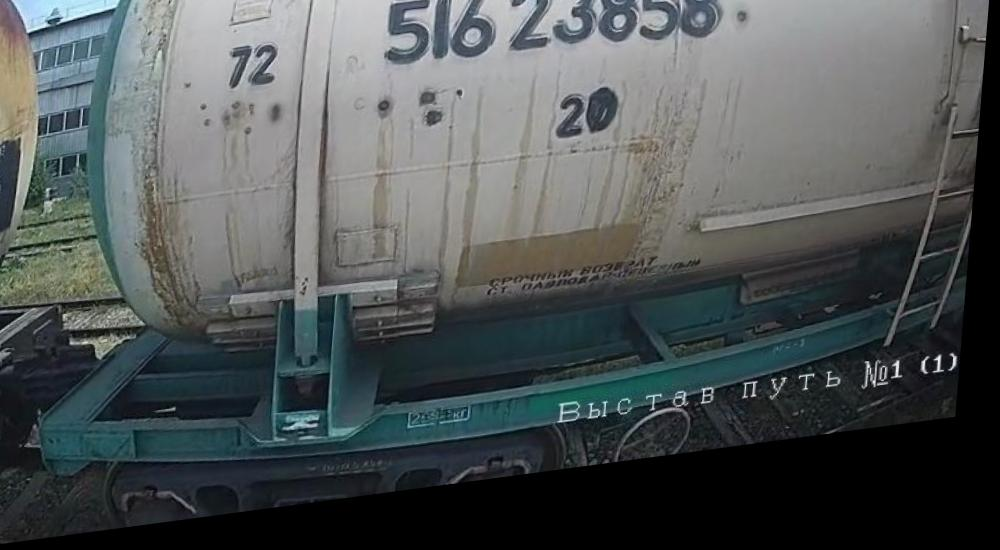Wagon-number: (380, 0, 733, 96)
